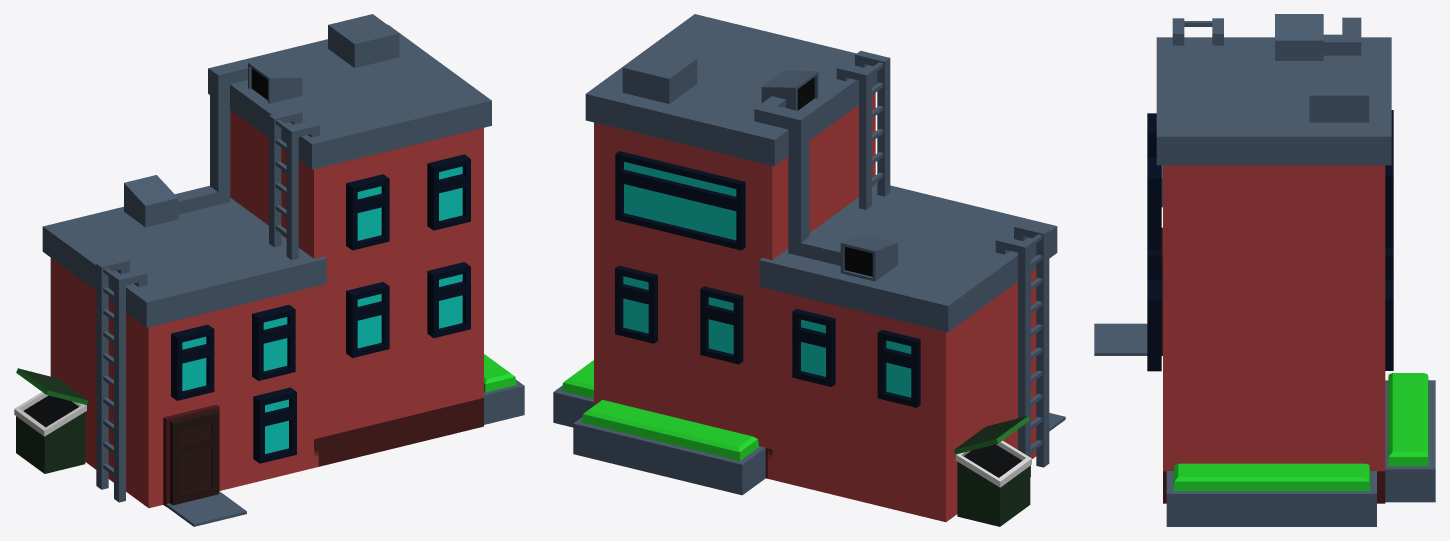
The model's file is TownHouse_8.fbx.
The picture shows the model from 3 angles, left to right: view 1: azimuth 30°, elevation 25°; view 2: azimuth 150°, elevation 25°; view 3: azimuth 270°, elevation 25°; orthographic projection. The views are drawn at different scales.
Visible parts, largest first — view 1: TownHouse_8; view 2: TownHouse_8; view 3: TownHouse_8.
Boxes of the visible parts, left/top/right/bottom form: TownHouse_8: left=14, top=14, right=524, bottom=526; TownHouse_8: left=553, top=14, right=1065, bottom=526; TownHouse_8: left=1094, top=14, right=1435, bottom=526.
Bounding box in the file's own units: 50.06 × 40.15 × 31.03.
